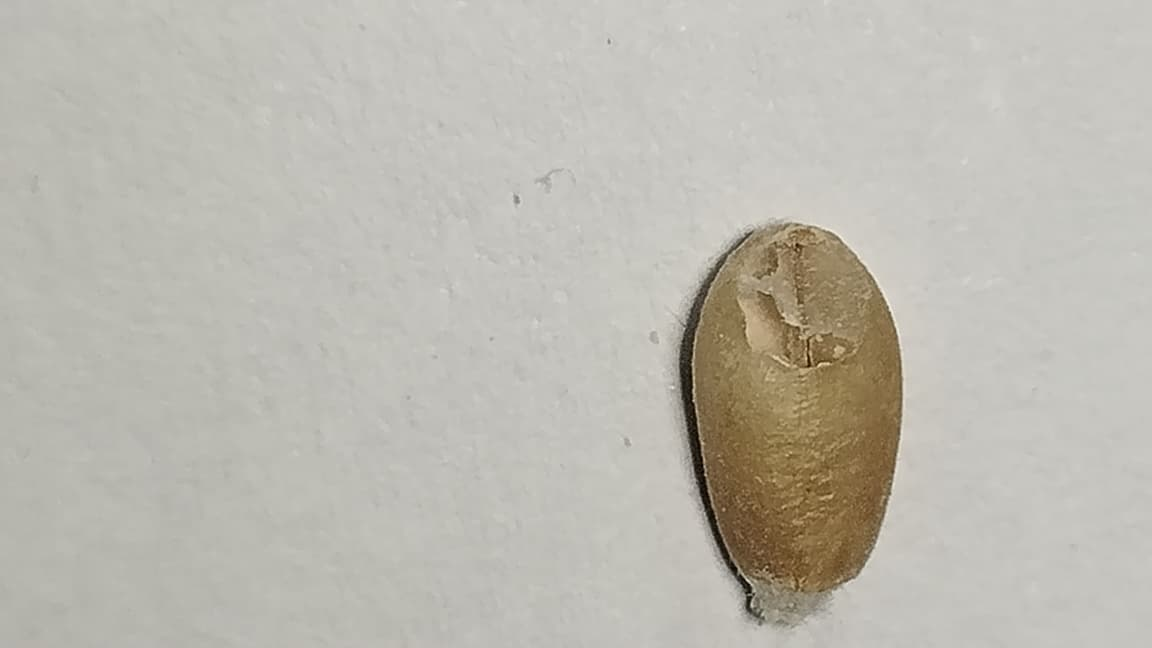damage: (691, 223, 900, 626)
insectdamage: (736, 221, 880, 384)
